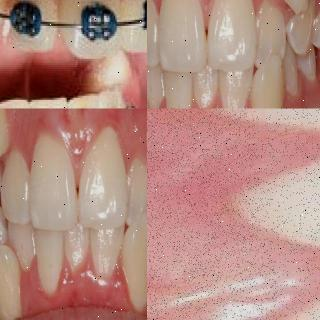Gum Swelling: (155, 117, 320, 320)
maligned: (112, 210, 147, 315), (241, 52, 291, 108), (251, 0, 289, 64), (122, 156, 147, 222), (0, 245, 16, 320), (0, 202, 12, 264)
